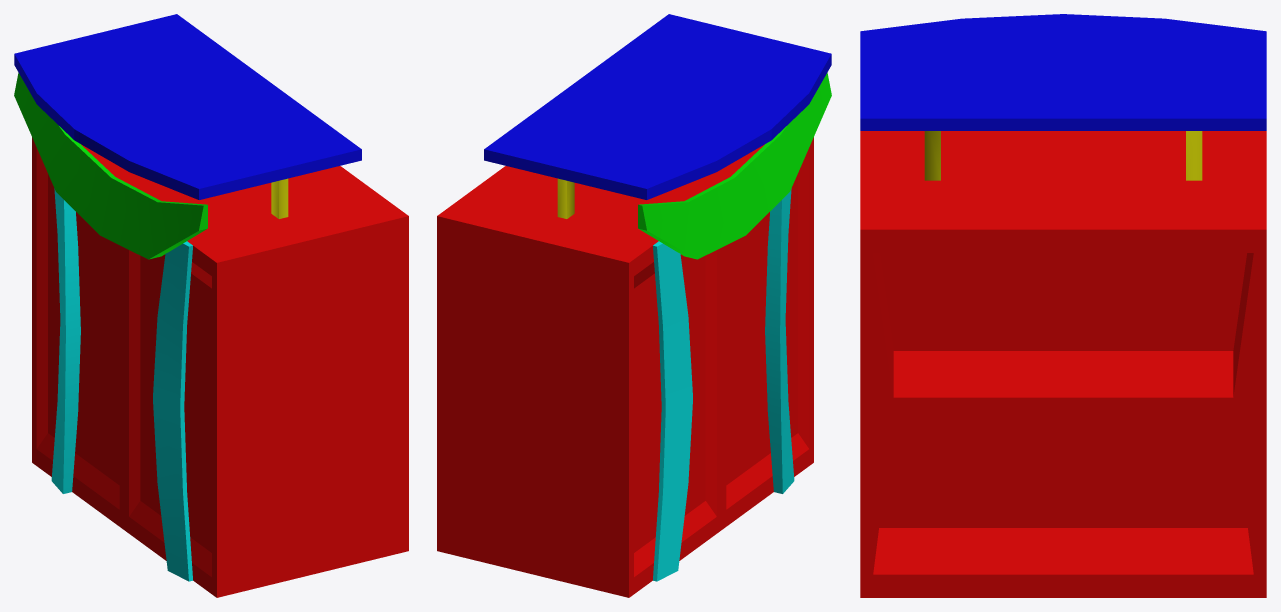
The model's file is Kundentheke_1_gerade_low.fbx.
The picture shows the model from 3 angles, left to right: view 1: azimuth 30°, elevation 25°; view 2: azimuth 150°, elevation 25°; view 3: azimuth 270°, elevation 25°; orthographic projection. The views are drawn at different scales.
Visible parts, largest first — view 1: Kundentheke_1_gerade_low; view 2: Kundentheke_1_gerade_low; view 3: Kundentheke_1_gerade_low.
Part boxes in pixels (bbox=[...]): Kundentheke_1_gerade_low: bbox=[14, 14, 408, 597]; Kundentheke_1_gerade_low: bbox=[437, 14, 831, 597]; Kundentheke_1_gerade_low: bbox=[860, 14, 1266, 597].
Size of the model in its own units: 0.756 by 1.23 by 1.
